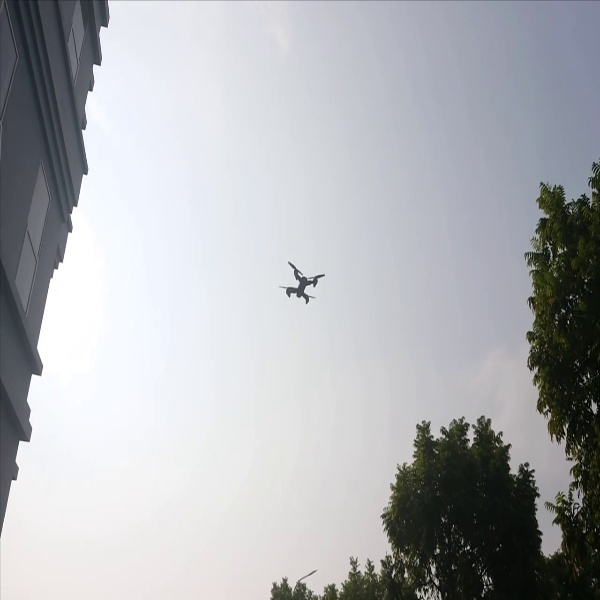drone: (267, 255, 333, 309)
